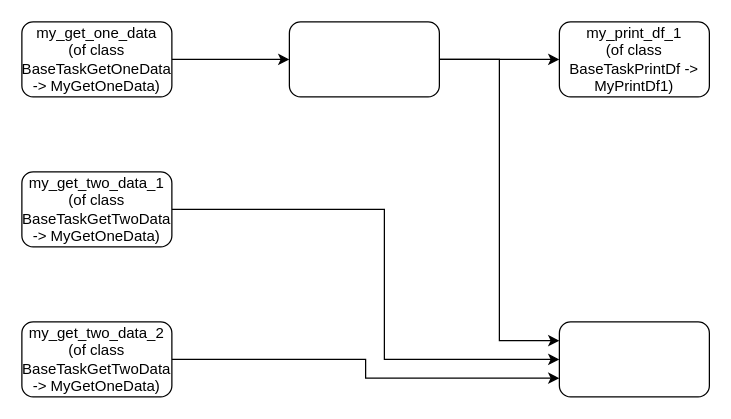
The diagram is 731 pixels wide and 419 high, and some of its shapes have lost their labels. The centre of each missing label's shape, as x and y in pixels:
my_drop_column (of class BaseTaskDropColumn -> MyDropColumn): (363,59)
my_print_df_2 (of class BaseTaskPrintDf -> MyPrintDf2): (633,359)
